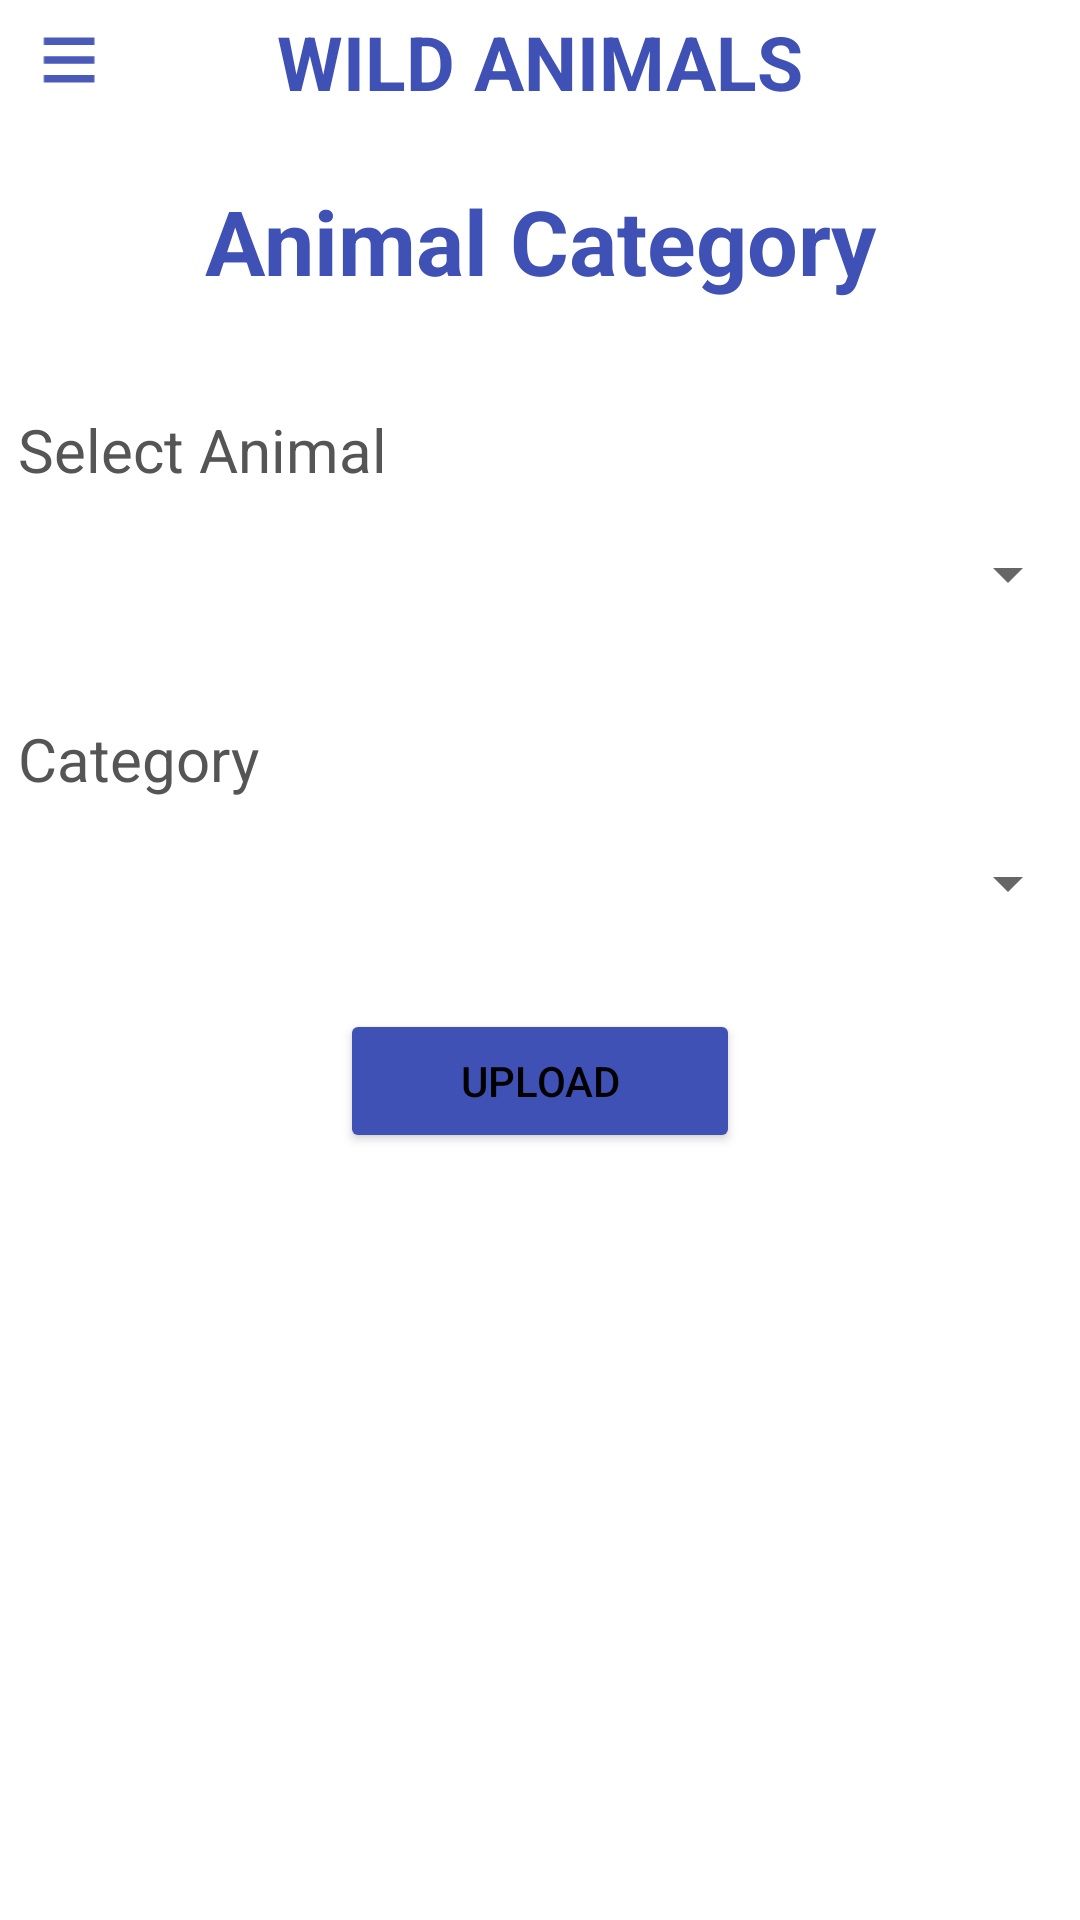

Point at icon controls on the screen. Image size 1080x1920, points as [x,y].
menu: [69,60]
